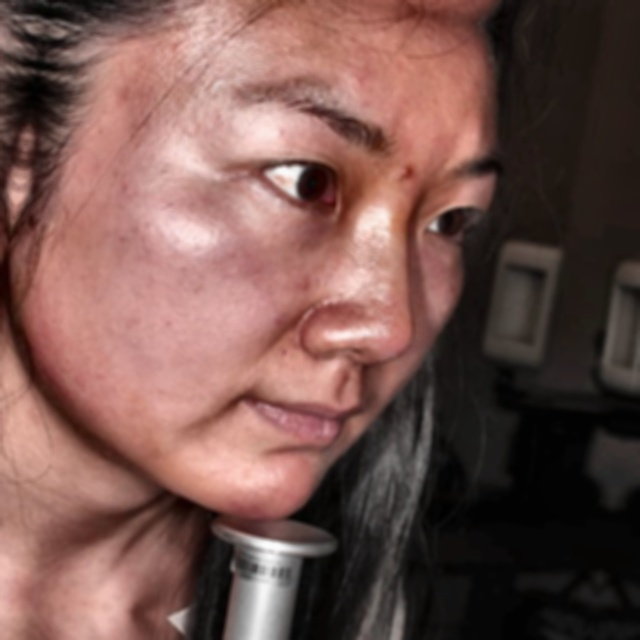comedone: (392, 154, 423, 185)
